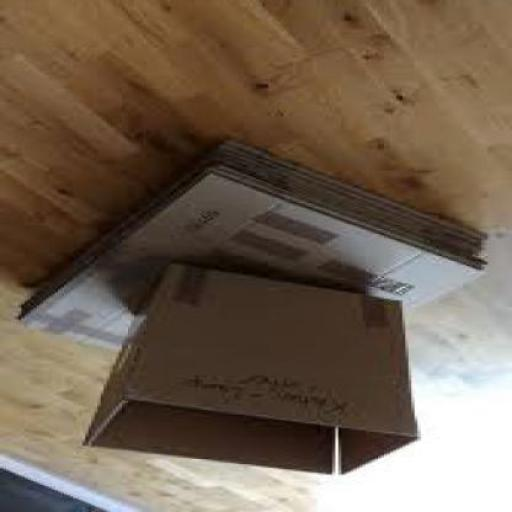cardboard: (21, 140, 491, 358), (24, 174, 488, 353), (86, 264, 424, 478)
